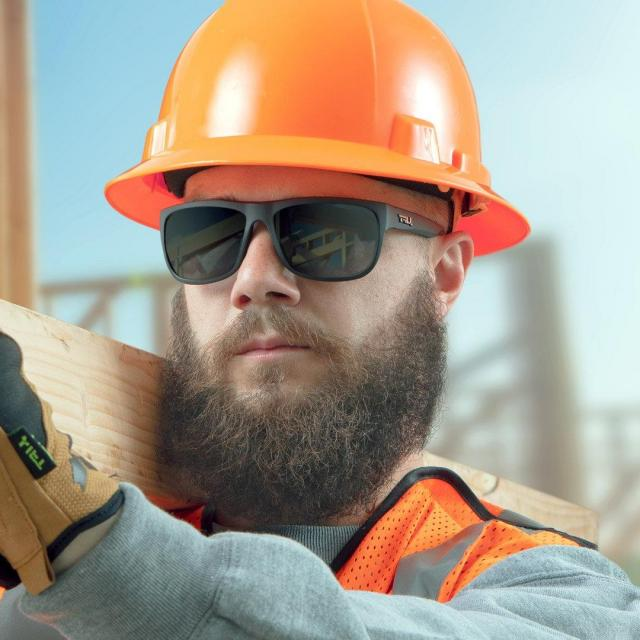Reflective-Jacket: (0, 478, 613, 635)
Safety-Helmet: (104, 3, 530, 243)
